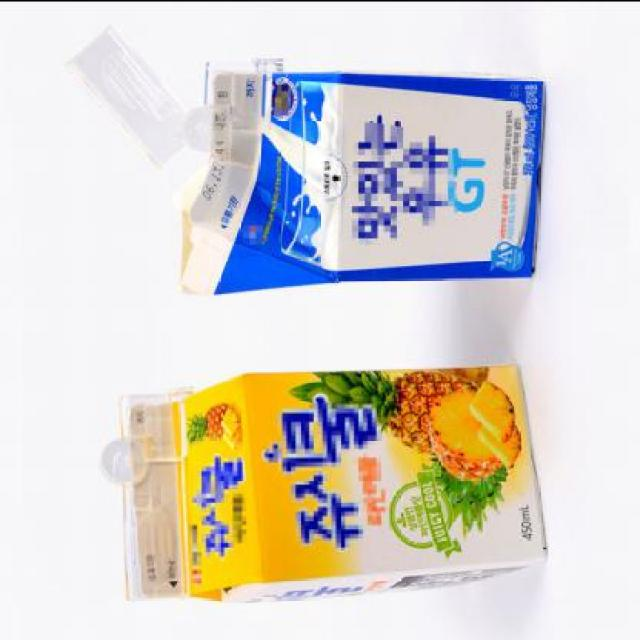non_white_jug: (109, 336, 553, 618), (153, 45, 559, 309)
